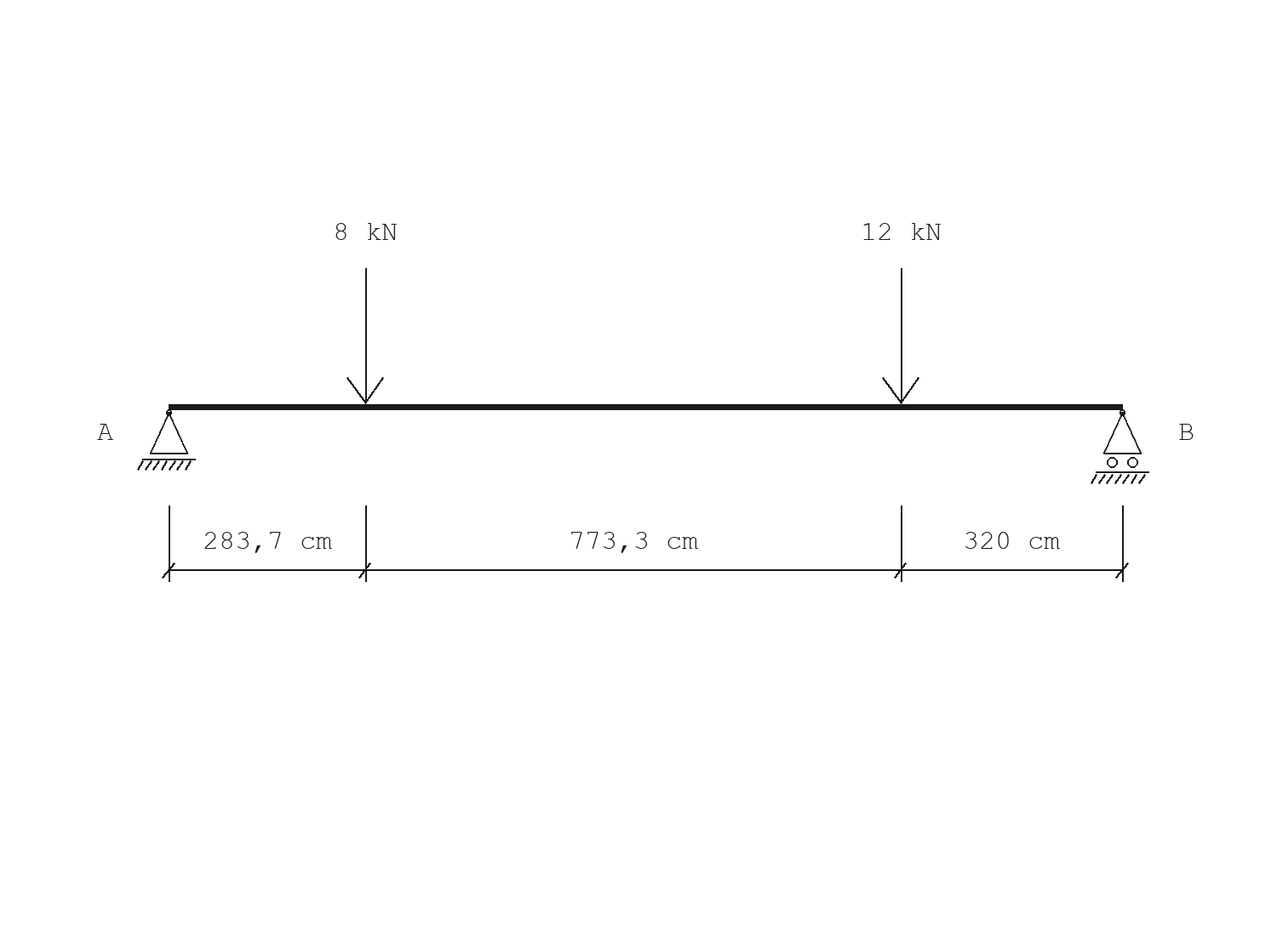pin_support: (137, 409, 196, 471)
point_load: (346, 268, 384, 404), (882, 268, 919, 404)
roller_support: (1091, 409, 1149, 484)
